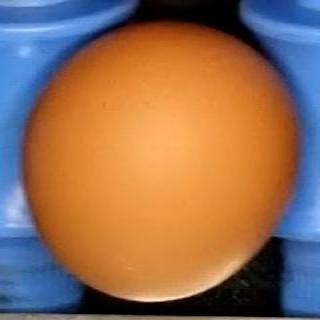Telur: (20, 17, 308, 306)
